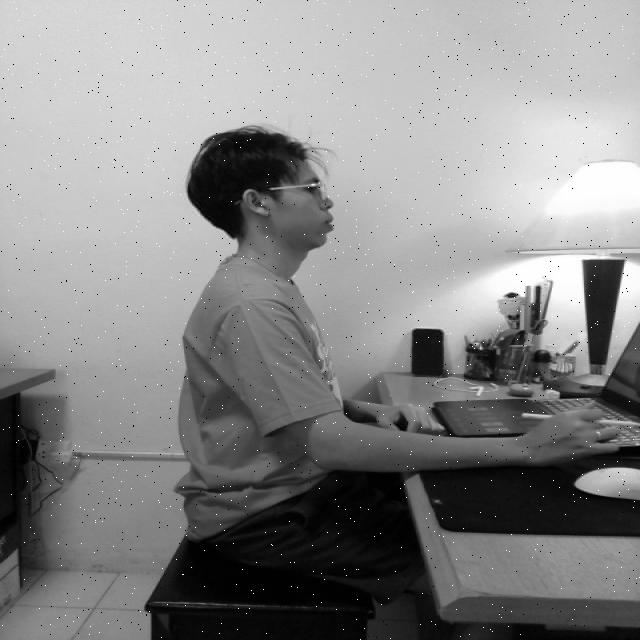Good: (157, 117, 391, 570)
